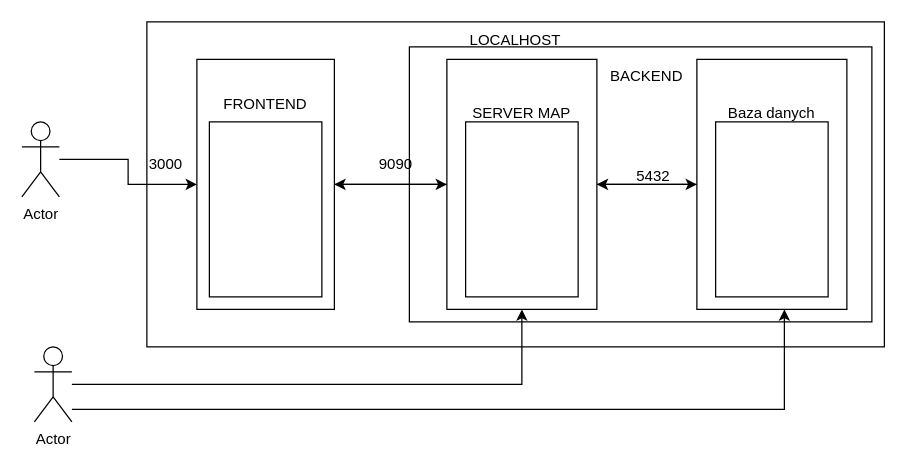
Image size: 906x470. Some labels were removed from this diagram. Here are the shapes that lost their labels. From the top down, the centre of each, then its label:
At (265,209): "ReactJS".
At (521,209): "Geoserver".
At (771,209): "Postgis".
